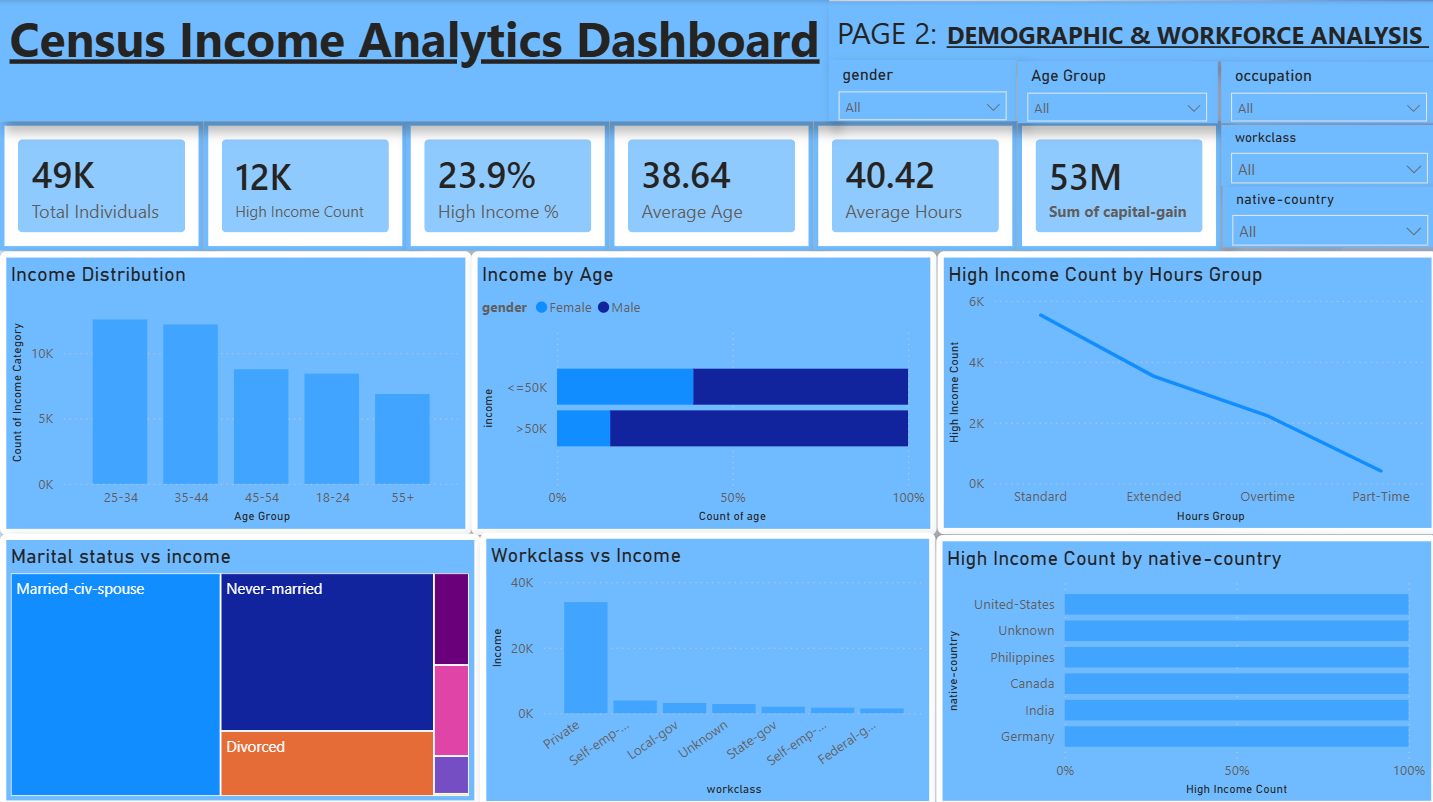

Layout of this report page (visuals, bound fields, positions):
{"tool":"powerbi","page":{"name":"Demographic & Workforce Analysis","canvas":[1280,720],"ordinal":1},"visuals":[{"type":"cardVisual","fields":{"Data":["Table.Total Individuals"]},"box":[0,108.4,181.1,115.3],"z":0},{"type":"cardVisual","fields":{"Data":["Table.High Income Count"]},"box":[181.1,108.4,181.1,115.3],"z":1000},{"type":"cardVisual","fields":{"Data":["Table.High Income %"]},"box":[362.3,108.4,181.1,115.3],"z":2000},{"type":"cardVisual","fields":{"Data":["Table.Average Age"]},"box":[543.4,108.4,181.1,115.3],"z":3000},{"type":"cardVisual","fields":{"Data":["Table.Average Hours"]},"box":[724.5,108.4,181.1,115.3],"z":4000},{"type":"cardVisual","fields":{"Data":["Sum(Fact_AdultIncome.capital-gain)"]},"box":[905.7,108.4,181.1,115.3],"z":5000},{"type":"columnChart","title":"Income Distribution","fields":{"Category":["Fact_AdultIncome.Age Group"],"Y":["CountNonNull(Fact_AdultIncome.Income Category)"]},"box":[0,223.7,419.9,252.5],"z":6000},{"type":"hundredPercentStackedBarChart","title":"Income by Age","fields":{"Y":["CountNonNull(Fact_AdultIncome.age)"],"Category":["Fact_AdultIncome.income"],"Series":["Fact_AdultIncome.gender"]},"box":[419.9,223.7,414.4,252.5],"z":7000},{"type":"treemap","title":"Marital status vs income","fields":{"Group":["Fact_AdultIncome.marital-status"],"Values":["CountNonNull(Fact_AdultIncome.income)"]},"box":[0,475.6,427.9,244.2],"z":8000},{"type":"clusteredColumnChart","title":"Workclass vs Income","fields":{"Category":["Fact_AdultIncome.workclass"],"Y":["CountNonNull(Fact_AdultIncome.income)"]},"box":[427.9,474.4,405.8,245.3],"z":9000},{"type":"textbox","box":[0,0,738.4,108.1],"z":10000},{"type":"textbox","box":[738.4,1.2,541.9,53.5],"z":11000},{"type":"slicer","fields":{"Values":["Fact_AdultIncome.gender"]},"box":[738.4,53.5,167.4,54.7],"z":12000},{"type":"slicer","fields":{"Values":["Fact_AdultIncome.Age Group"]},"box":[906.2,54.3,178.2,55.5],"z":13000},{"type":"slicer","fields":{"Values":["Fact_AdultIncome.occupation"]},"box":[1087.9,54.3,192.3,55.5],"z":14000},{"type":"slicer","fields":{"Values":["Fact_AdultIncome.workclass"]},"box":[1087.2,111.6,193,54],"z":15000},{"type":"slicer","fields":{"Values":["Fact_AdultIncome.native-country"]},"box":[1088.4,166.3,191.9,54.7],"z":16000},{"type":"lineChart","fields":{"Category":["Fact_AdultIncome.Hours Group"],"Y":["Table.High Income Count"]},"box":[834.4,223.6,445.8,252.2],"z":17000},{"type":"hundredPercentStackedBarChart","fields":{"Category":["Fact_AdultIncome.native-country"],"Y":["Table.High Income Count"]},"box":[834,476,446,243],"z":18000}]}

Visuals, with their boxes in screenshot pixels (x1, y1, x2, y2), scaled from the page's 1280x720 canvas onto the 1433x802 screenshot:
cardVisual - Table.Total Individuals: left=0, top=121, right=203, bottom=249
cardVisual - Table.High Income Count: left=203, top=121, right=405, bottom=249
cardVisual - Table.High Income %: left=406, top=121, right=608, bottom=249
cardVisual - Table.Average Age: left=608, top=121, right=811, bottom=249
cardVisual - Table.Average Hours: left=811, top=121, right=1014, bottom=249
cardVisual - Sum(Fact_AdultIncome.capital-gain): left=1014, top=121, right=1217, bottom=249
"Income Distribution" columnChart: left=0, top=249, right=470, bottom=530
"Income by Age" hundredPercentStackedBarChart: left=470, top=249, right=934, bottom=530
"Marital status vs income" treemap: left=0, top=530, right=479, bottom=801
"Workclass vs Income" clusteredColumnChart: left=479, top=528, right=933, bottom=801
textbox: left=0, top=0, right=827, bottom=120
textbox: left=827, top=1, right=1432, bottom=61
slicer - Fact_AdultIncome.gender: left=827, top=60, right=1014, bottom=121
slicer - Fact_AdultIncome.Age Group: left=1015, top=60, right=1214, bottom=122
slicer - Fact_AdultIncome.occupation: left=1218, top=60, right=1432, bottom=122
slicer - Fact_AdultIncome.workclass: left=1217, top=124, right=1432, bottom=184
slicer - Fact_AdultIncome.native-country: left=1218, top=185, right=1432, bottom=246
lineChart - Fact_AdultIncome.Hours Group x Table.High Income Count: left=934, top=249, right=1432, bottom=530
hundredPercentStackedBarChart - Fact_AdultIncome.native-country x Table.High Income Count: left=934, top=530, right=1432, bottom=801
